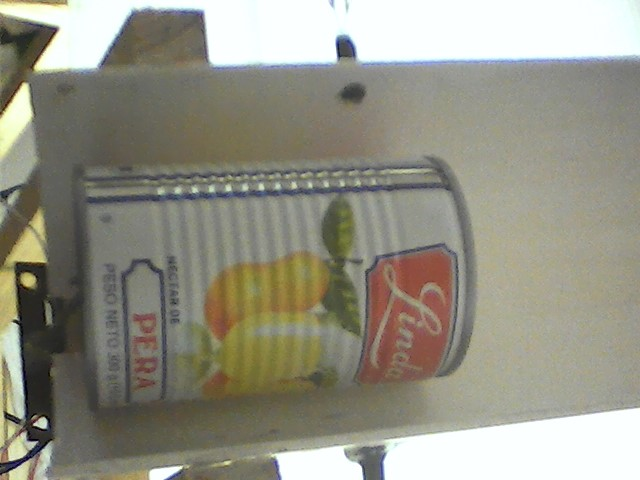lata: (67, 149, 486, 418)
